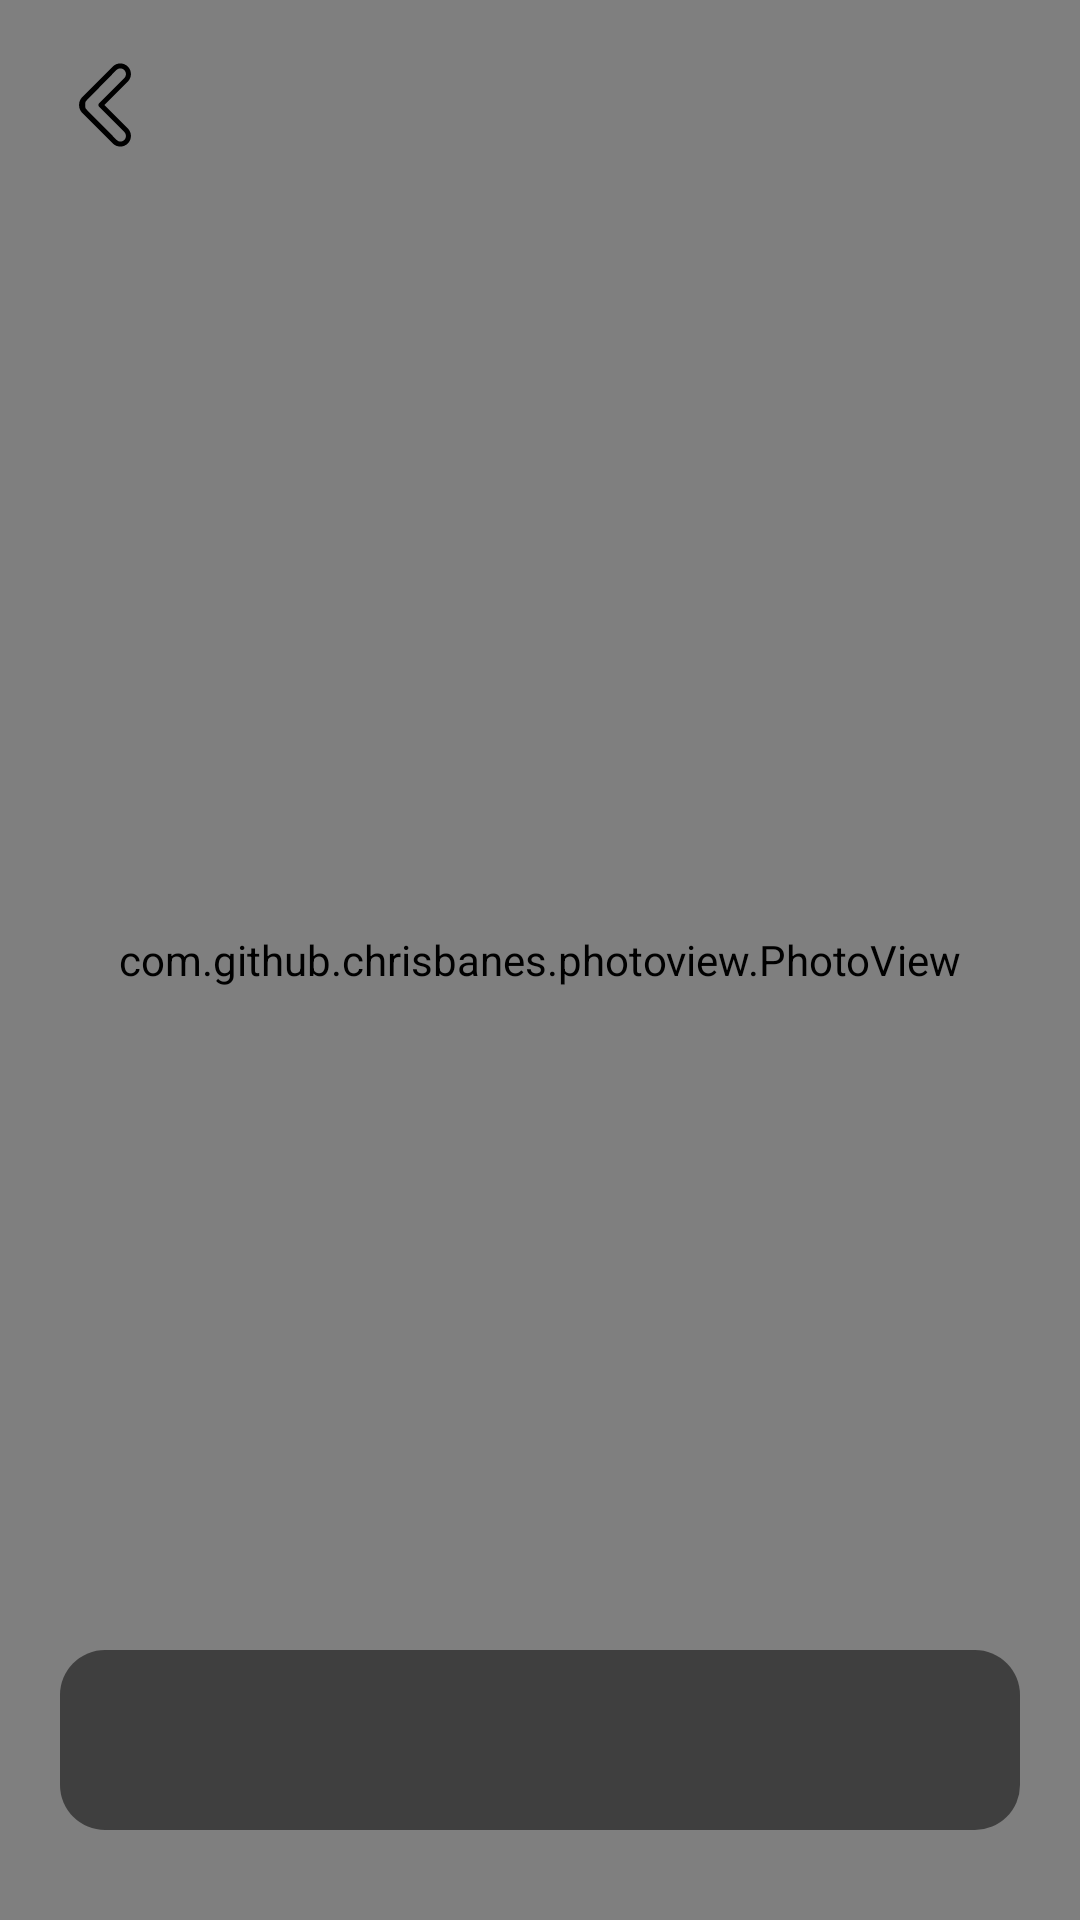

Icon bounding boxes for this 1080x1920 phone screenshot, format (x1, y1, x2, y2):
back arrow: (79, 63, 131, 147)
